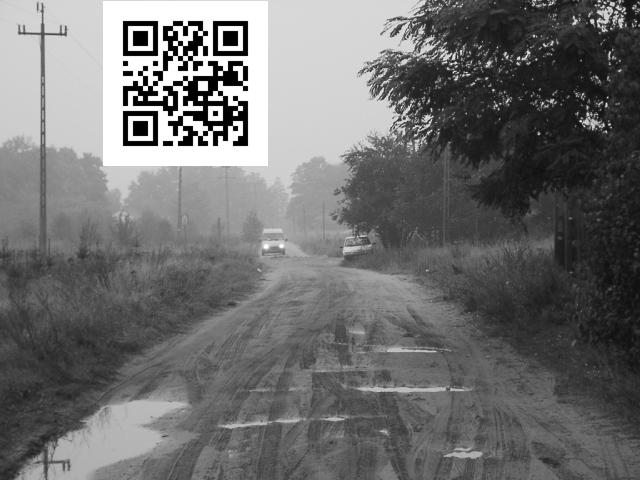qr_code: (105, 2, 266, 163)
